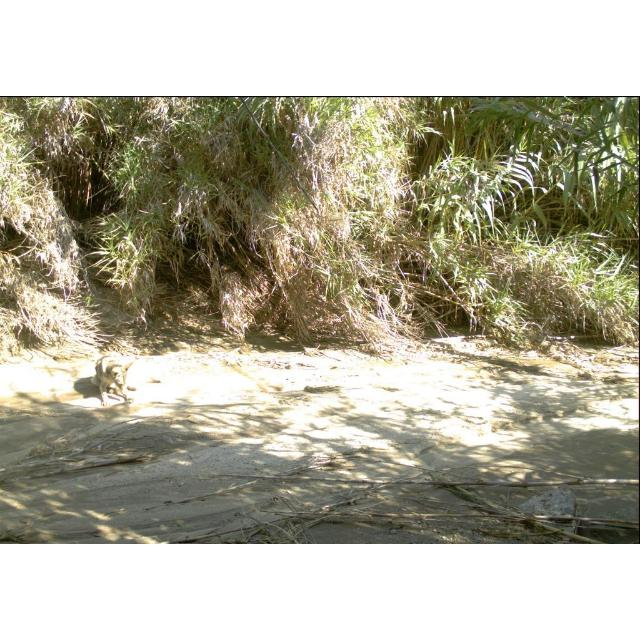animals: (90, 354, 134, 404)
